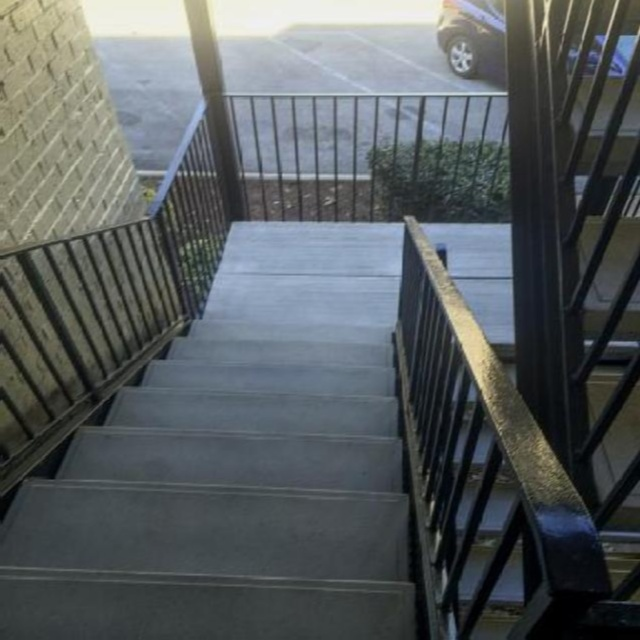stair: (1, 49, 619, 640)
